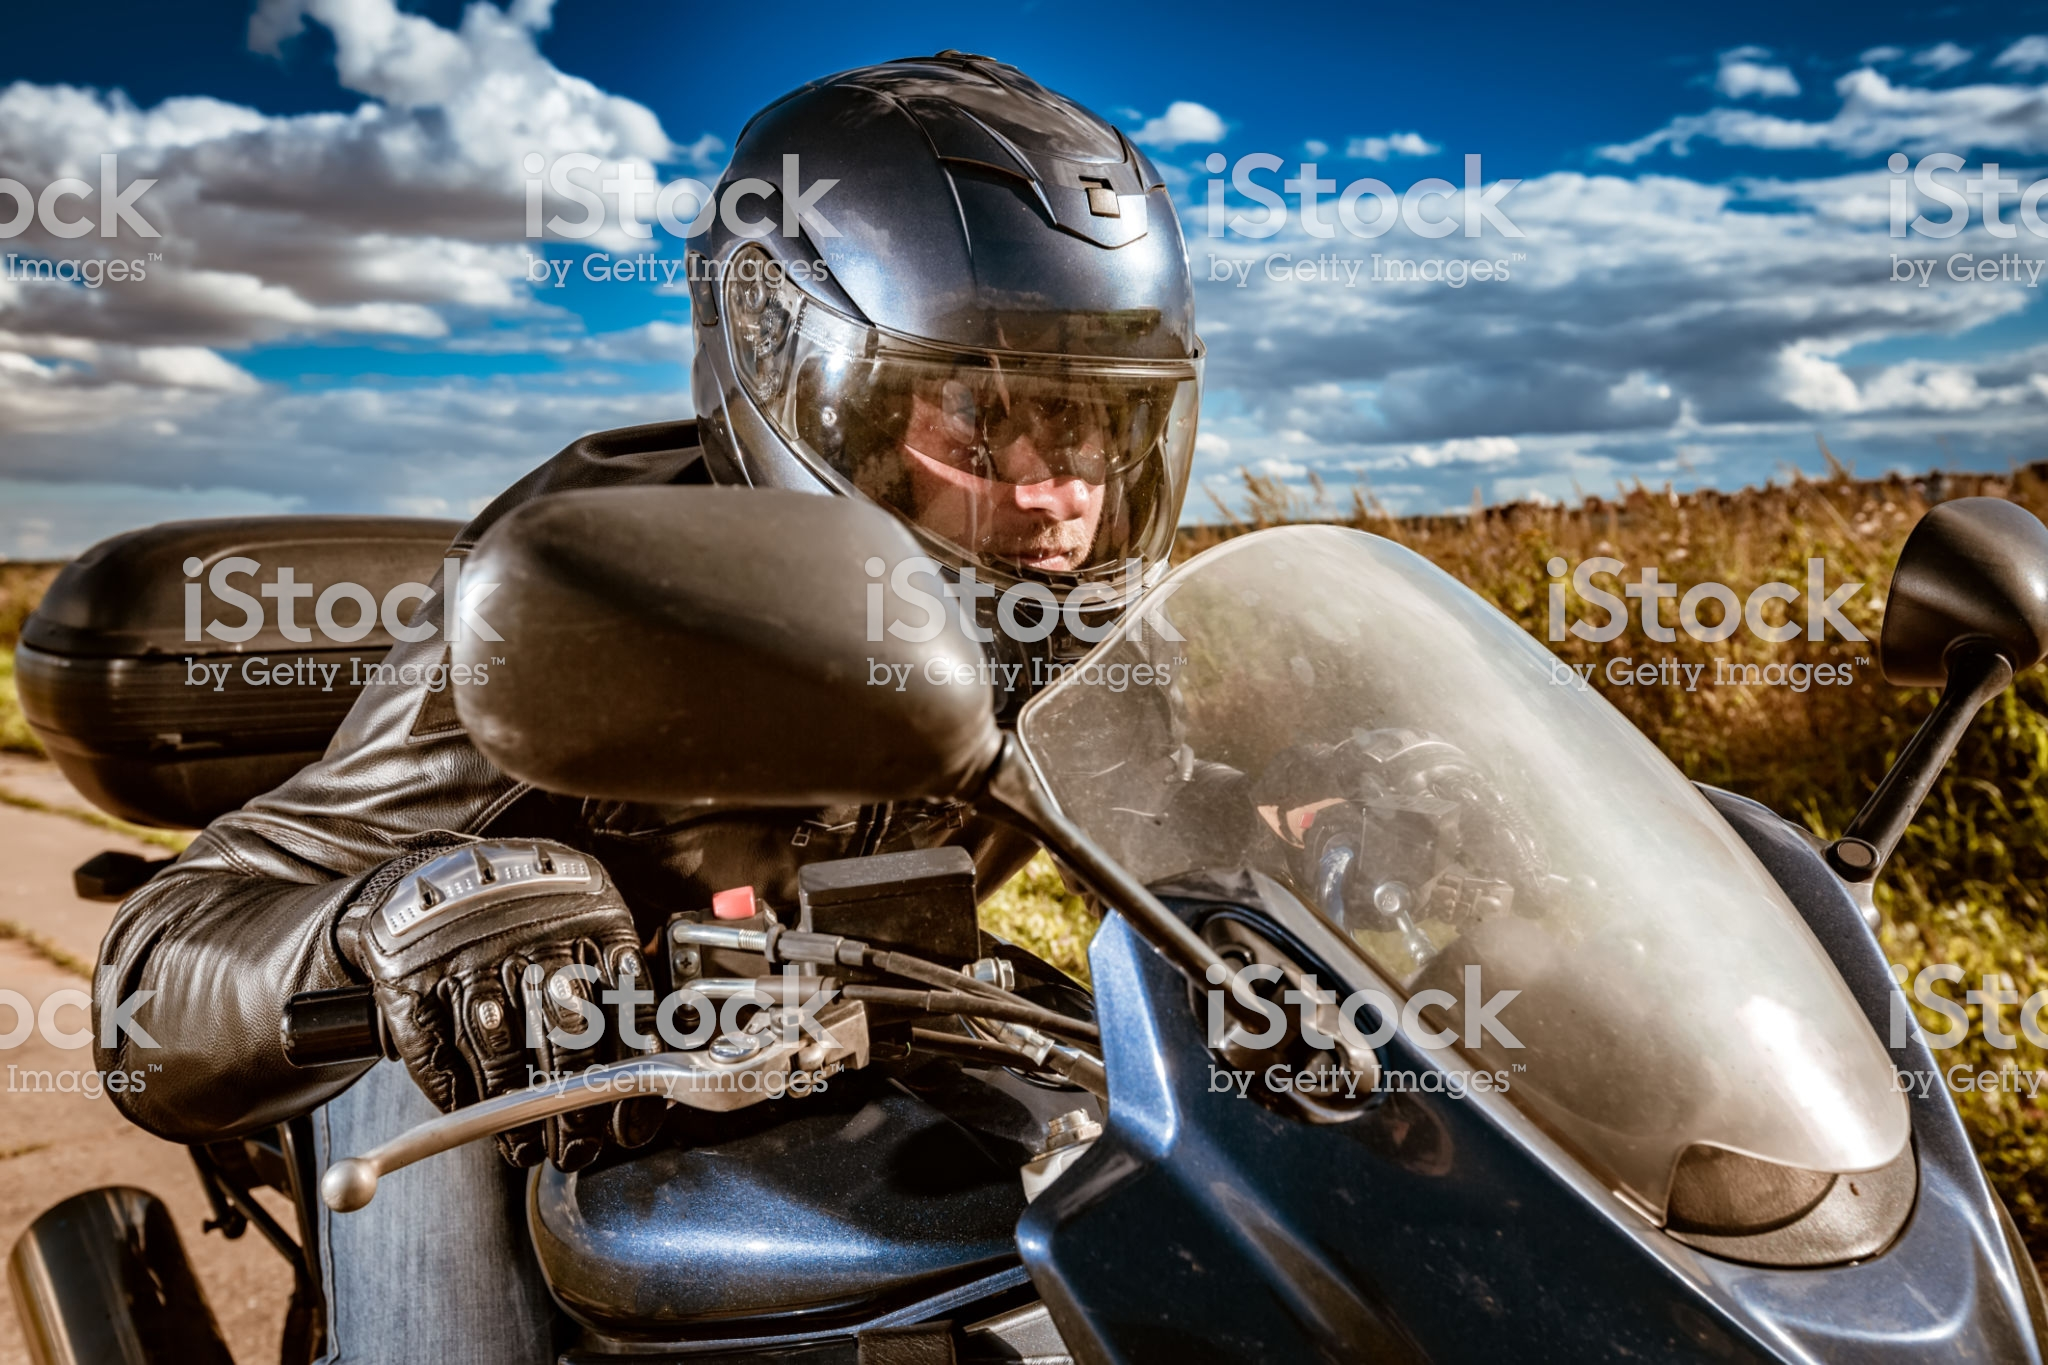helmet: (665, 56, 1278, 661)
